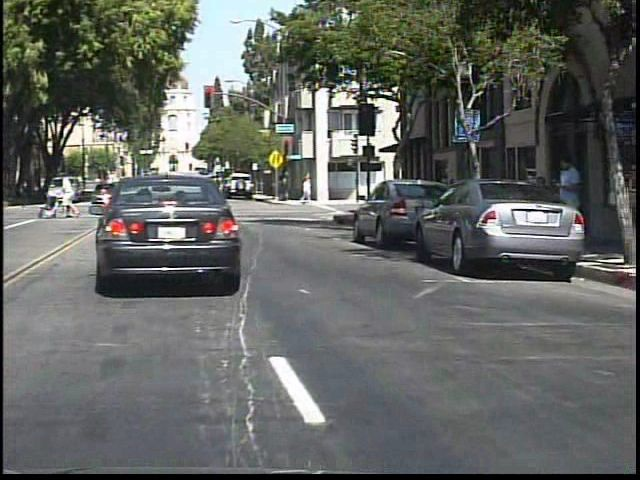person: (553, 148, 585, 258), (66, 171, 87, 220), (2, 175, 18, 210), (54, 174, 55, 207)
